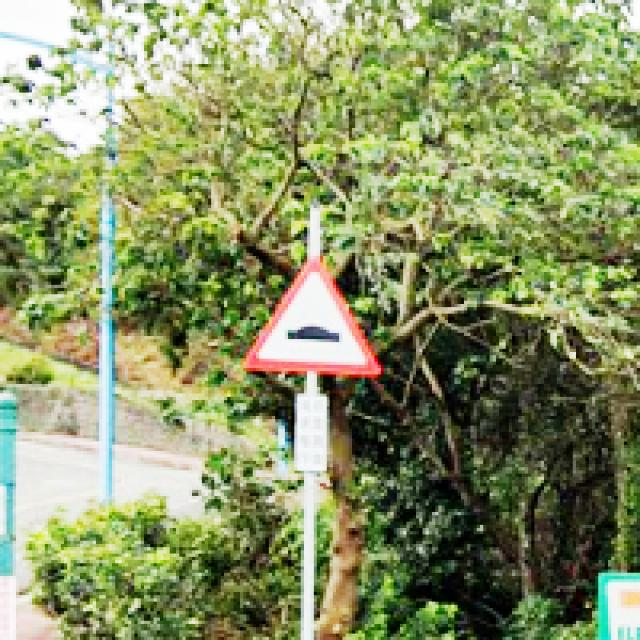hump: (244, 256, 382, 373)
